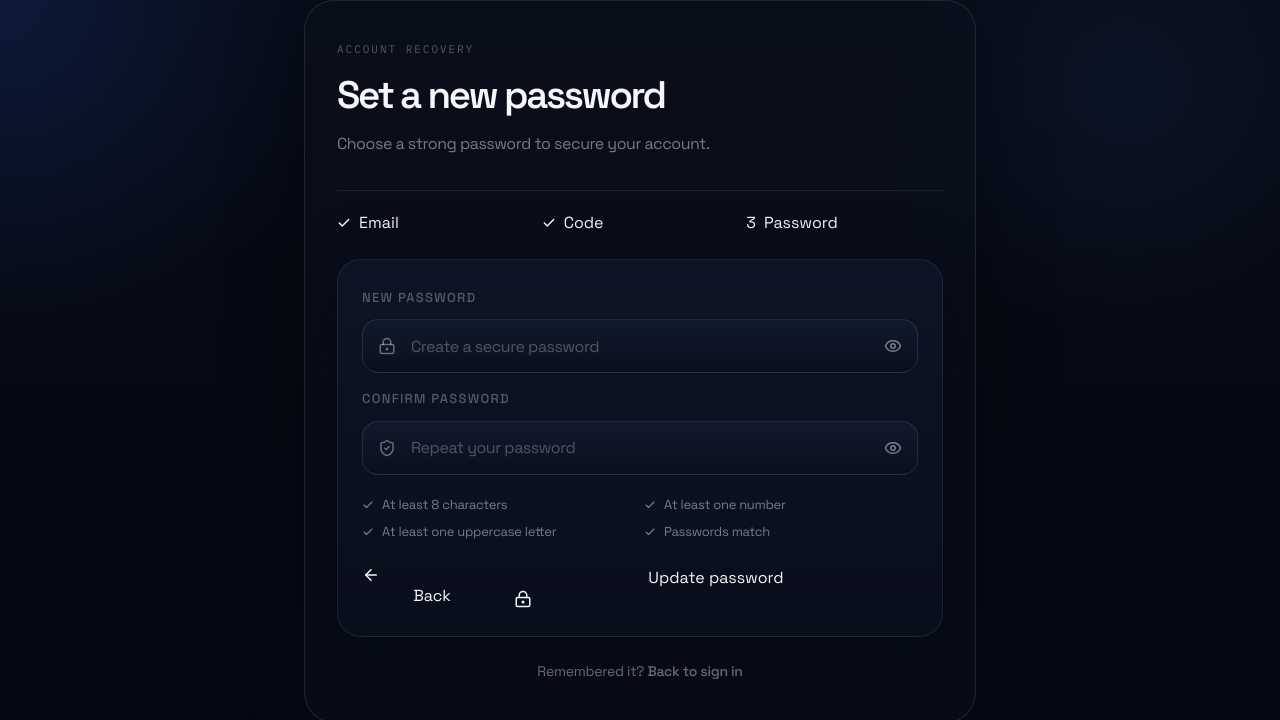
Test: features/password-recovery/ui/PasswordRecoveryFlow › renders password step and toggles password visibility
Check: the list item "At least 8 characters" is shown, box [362,496,507,513]
Check: the list item "At least one uppercase letter" is shown, box [362,524,556,540]
Click the button named "Show new password": (901,346) [884,320,918,374]
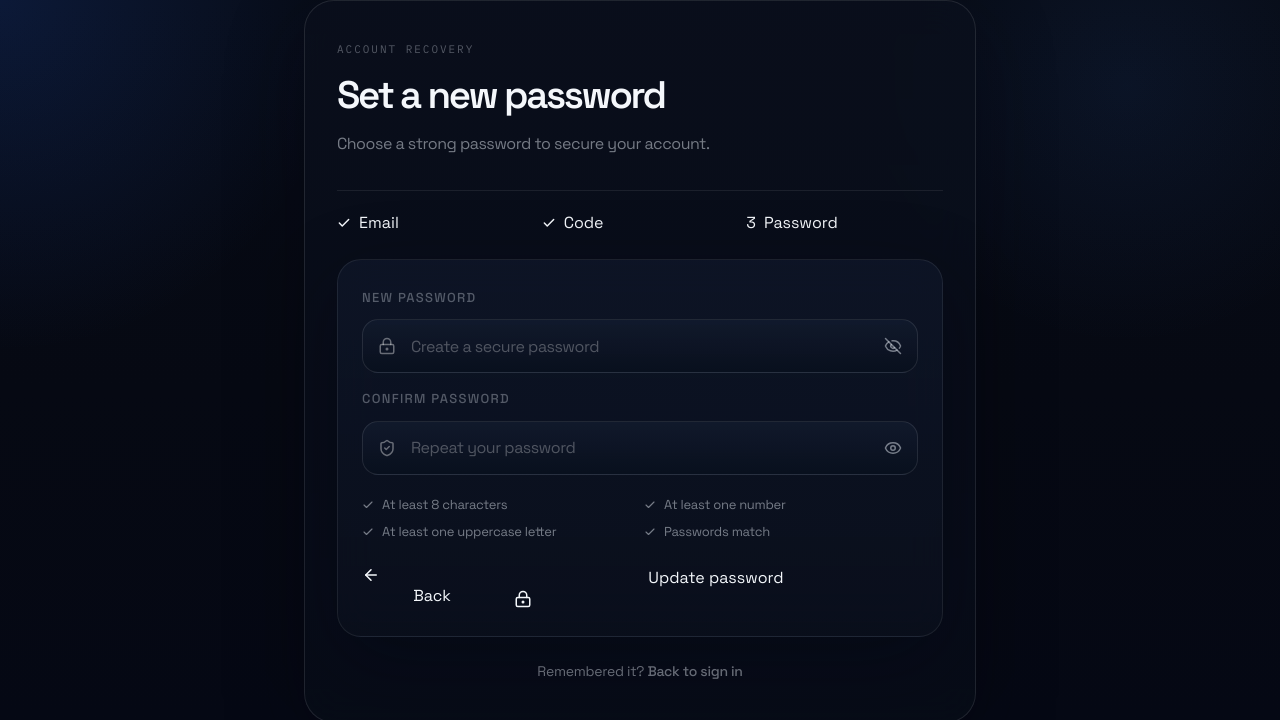
Check: the button named "Hide new password" is shown, box [884,320,918,374]
